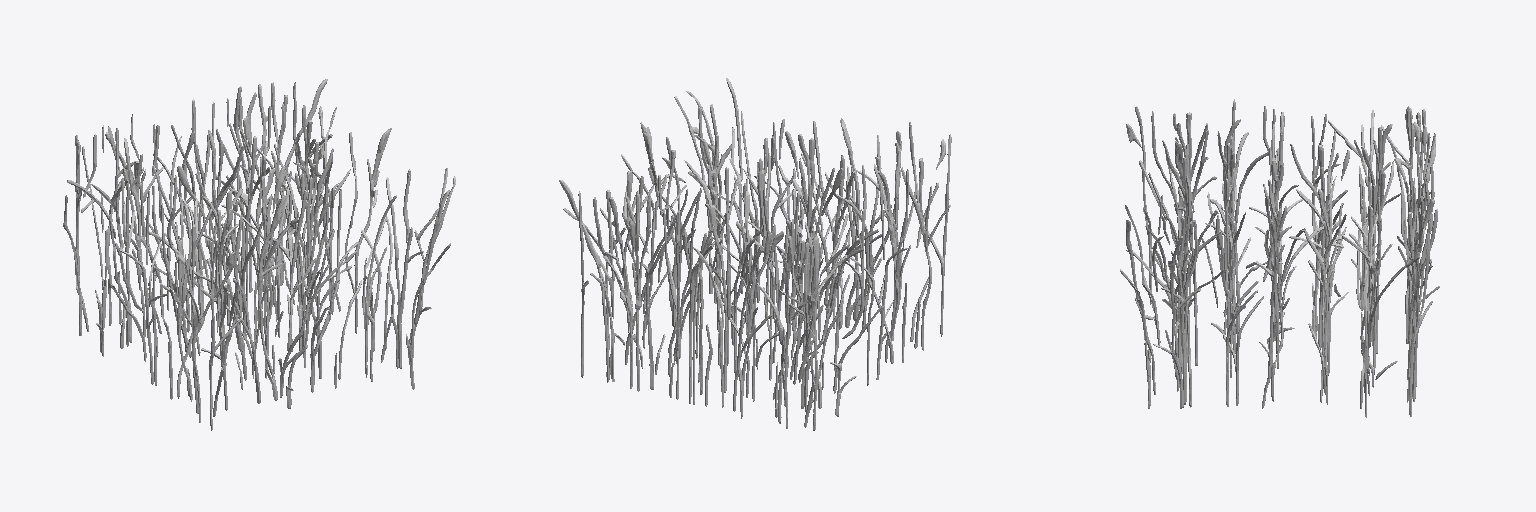
Rendered from a_wheat_field_model_f_0919133326_preview.obj.
The picture shows the model from 3 angles: view 1: azimuth 30°, elevation 25°; view 2: azimuth 150°, elevation 25°; view 3: azimuth 270°, elevation 25°; orthographic projection.
Visible parts, largest first — view 1: Mesh1; view 2: Mesh1; view 3: Mesh1.
Boxes of the visible parts, box(x1,y1,x2,y2) form: Mesh1: box(63, 79, 455, 430); Mesh1: box(559, 78, 951, 430); Mesh1: box(1120, 99, 1439, 417).
Bounding box in the file's own units: 2.02 × 1.48 × 1.97.